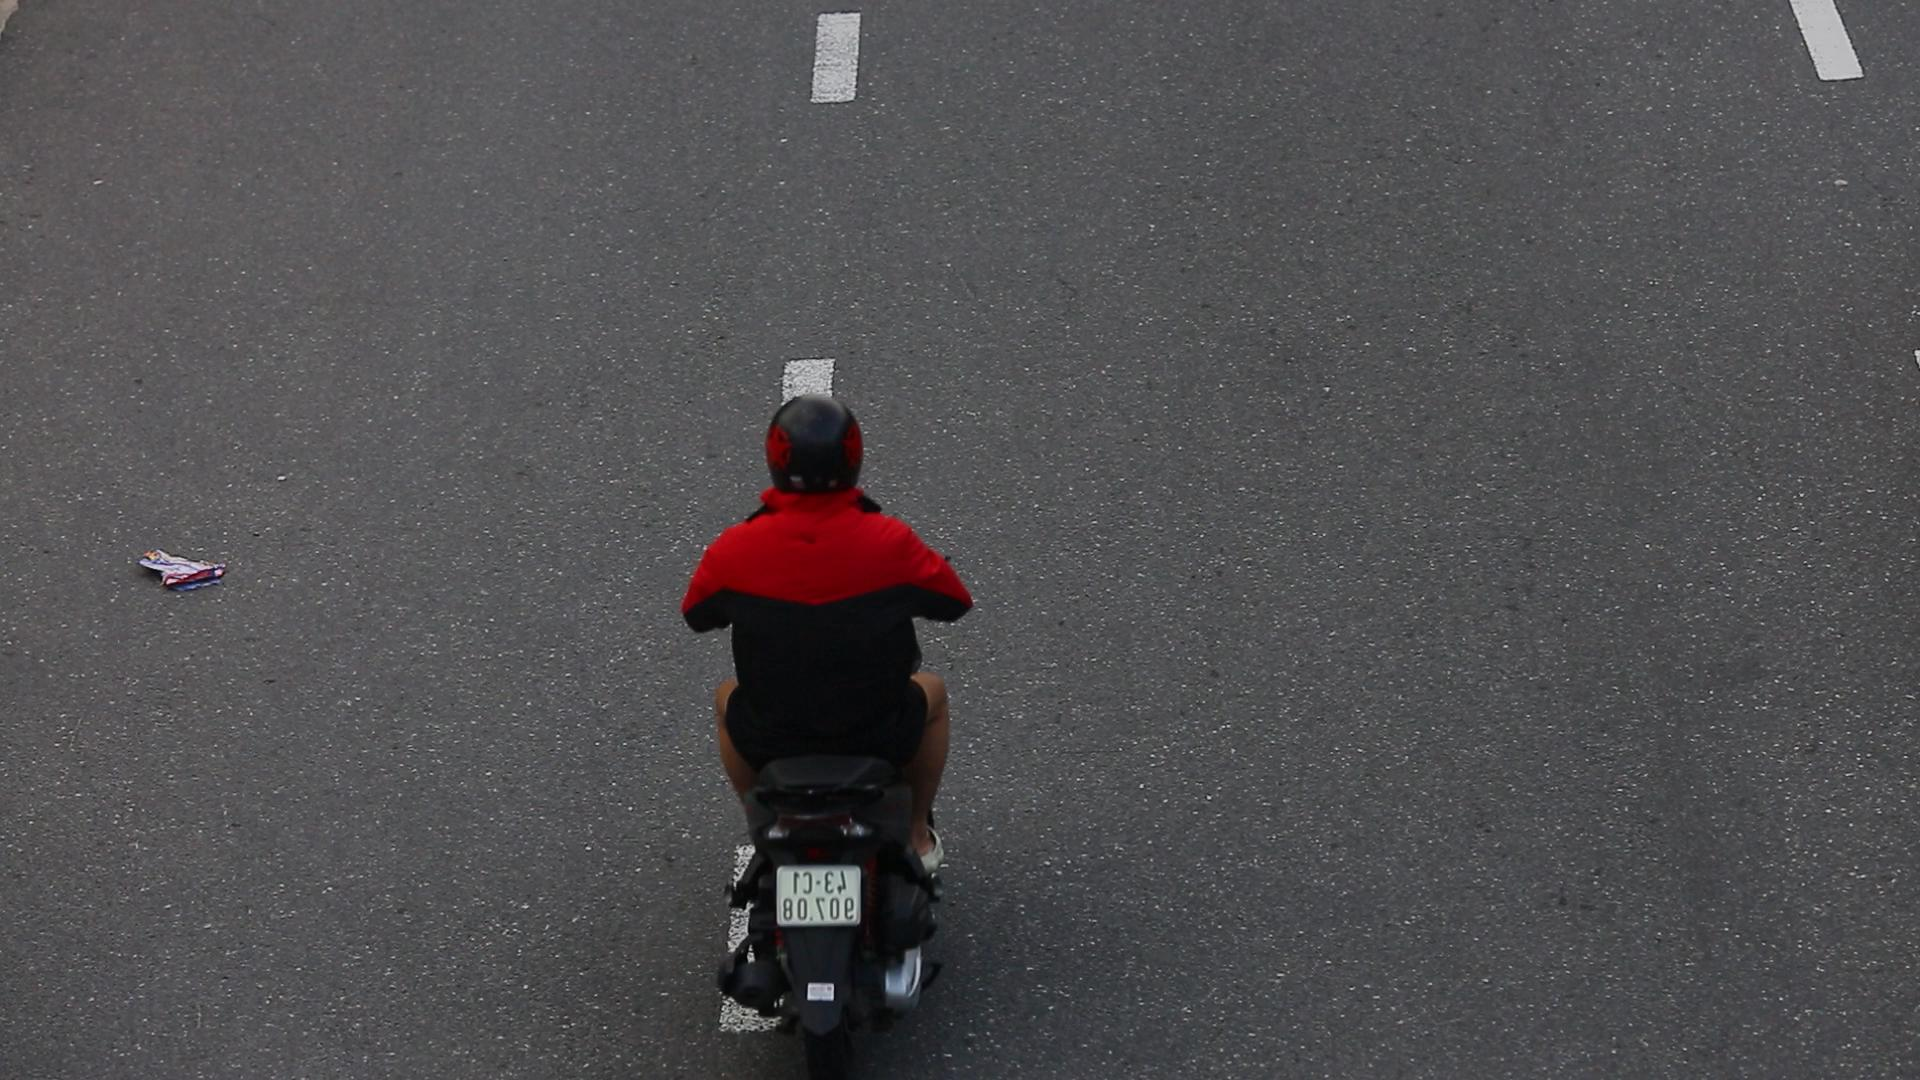motobike: (661, 376, 1017, 1080)
